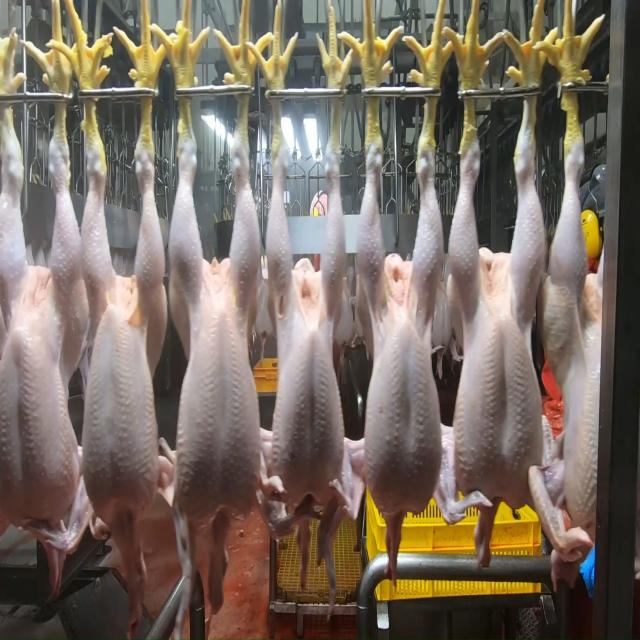chicken: (160, 102, 266, 608), (442, 90, 534, 569), (77, 120, 165, 610), (265, 127, 357, 595), (356, 142, 444, 590), (0, 127, 78, 603), (549, 136, 615, 578)
